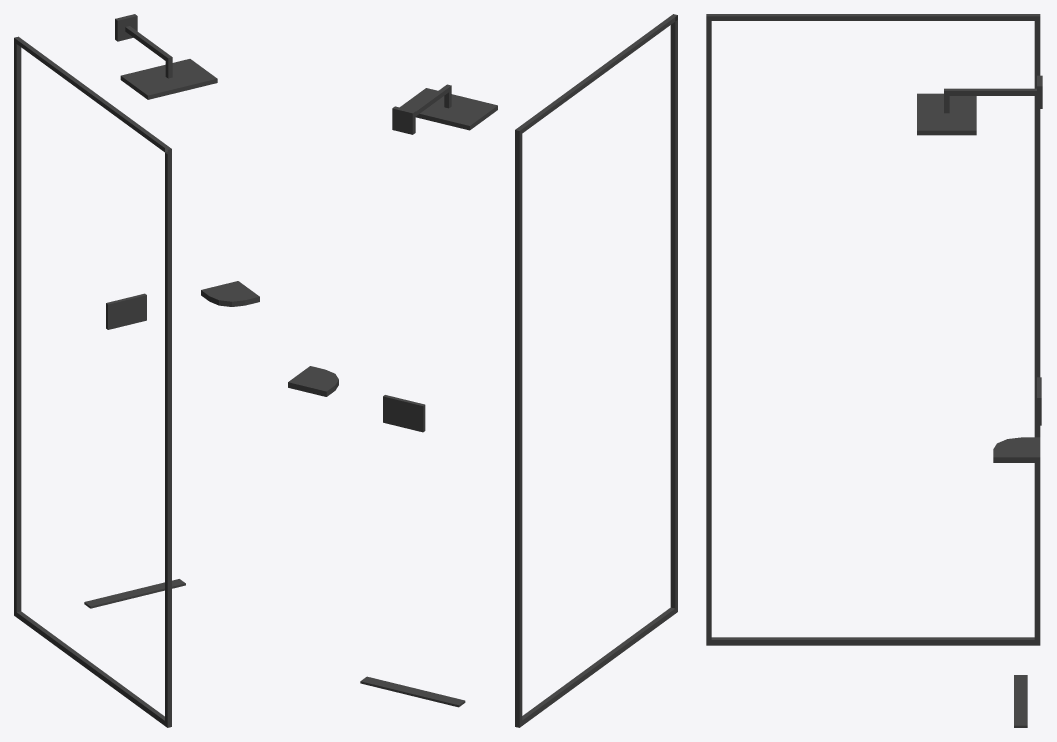
Rendered from Shower4_C2.fbx.
The picture shows the model from 3 angles, left to right: view 1: azimuth 30°, elevation 25°; view 2: azimuth 150°, elevation 25°; view 3: azimuth 270°, elevation 25°; orthographic projection. The views are drawn at different scales.
Visible parts, largest first — view 1: Shower4_C2; view 2: Shower4_C2; view 3: Shower4_C2.
Boxes of the visible parts, <box> form: Shower4_C2: <box>14,14,259,727</box>; Shower4_C2: <box>288,14,677,727</box>; Shower4_C2: <box>706,14,1042,727</box>.
Bounding box in the file's own units: 90 × 222 × 108.
